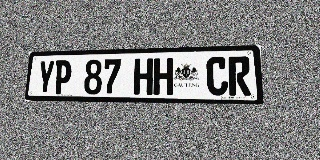7: (102, 59, 121, 95)
8: (84, 59, 103, 94)
C: (206, 57, 228, 95)
H: (133, 58, 153, 95), (153, 58, 173, 95)
P: (53, 60, 72, 94)
R: (228, 56, 251, 96)
Y: (36, 60, 55, 94)
